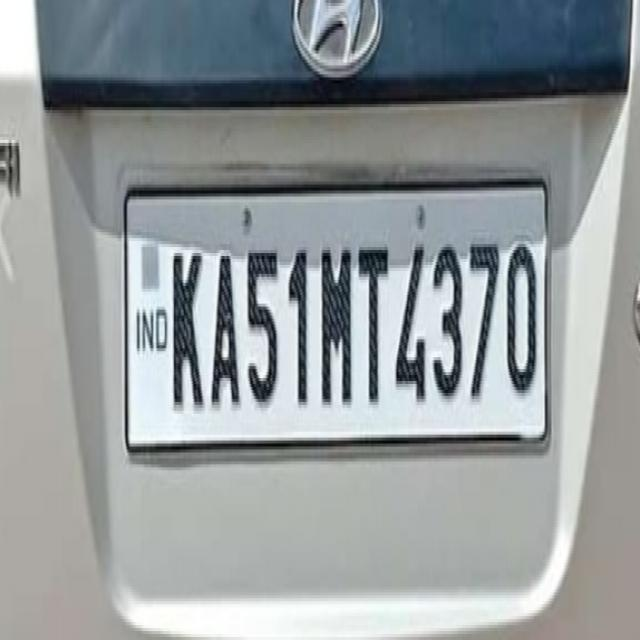0: (504, 237, 542, 406)
1: (286, 227, 312, 417)
3: (430, 222, 462, 412)
4: (395, 226, 430, 408)
5: (244, 232, 280, 409)
7: (466, 225, 501, 426)
A: (206, 240, 241, 416)
K: (170, 238, 204, 418)
M: (315, 236, 357, 422)
T: (354, 223, 392, 404)
